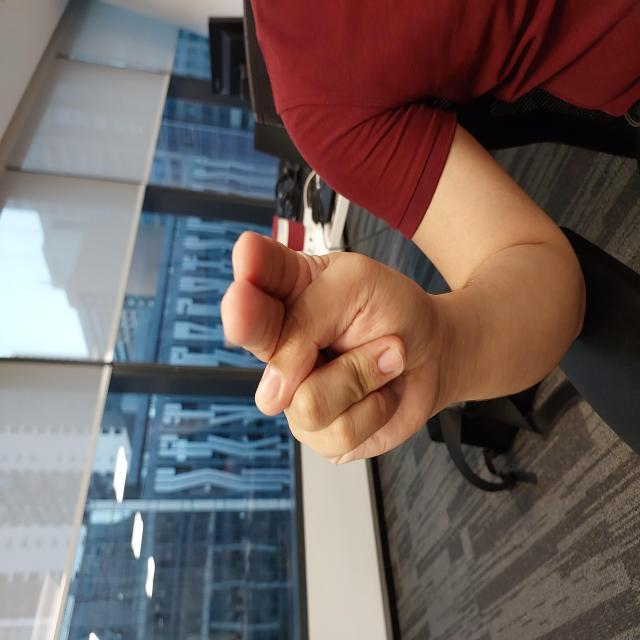N: (171, 219, 413, 448)
